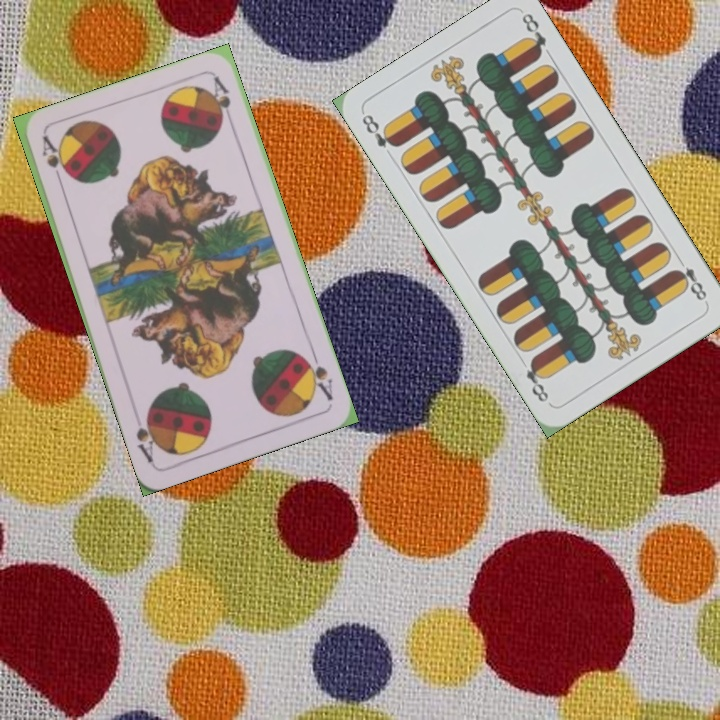E8: (670, 252, 710, 304), (357, 110, 401, 151)
SA: (299, 347, 336, 403), (38, 132, 67, 190)
